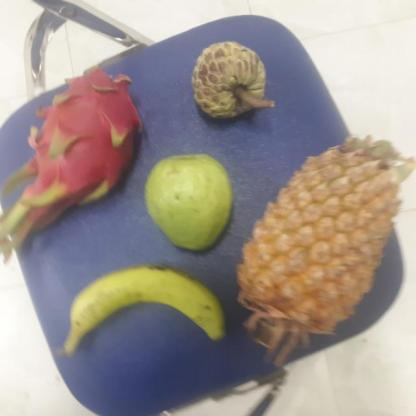annona: (186, 43, 266, 121)
banana: (58, 263, 226, 343)
guava: (140, 153, 236, 251)
pitaya: (30, 72, 141, 202)
